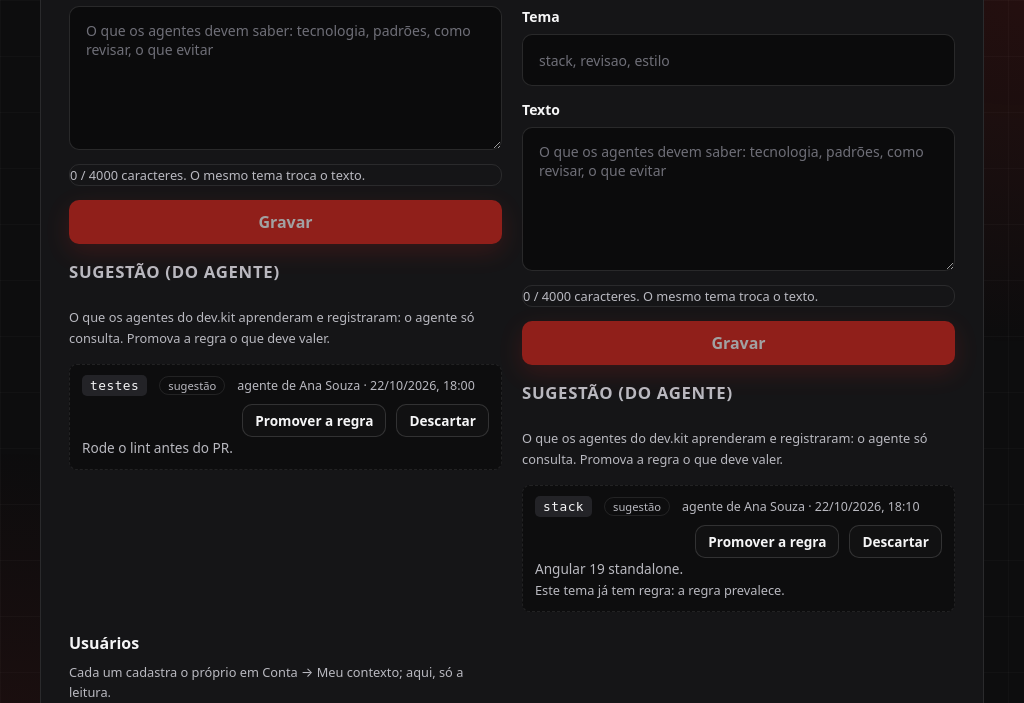
Test: Repositórios e convenções da empresa (US #491) › aba Contexto (US #663): descartar tira só a sugestão
(page scrolled)
Click the button with aria-label "Descartar a sugestão testes": (443, 421) [396,404,489,437]
(page scrolled)
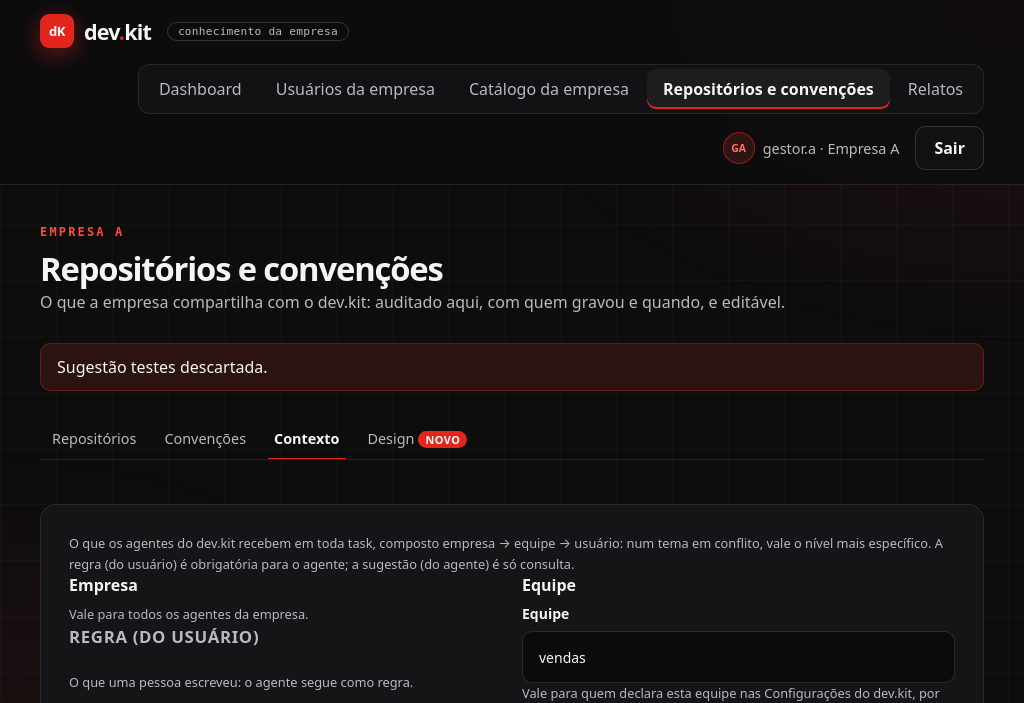
Result: the text "Sugestão testes descartada." is shown at [40,343,984,391]
